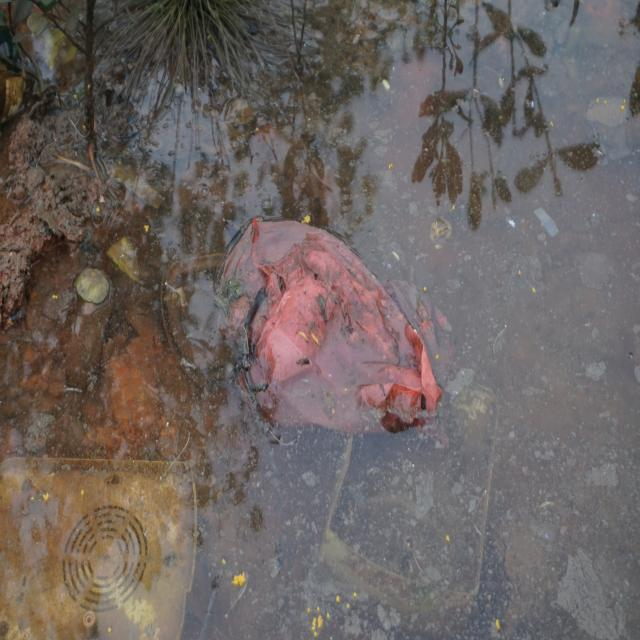Kantong Plastik: (220, 200, 452, 446)
